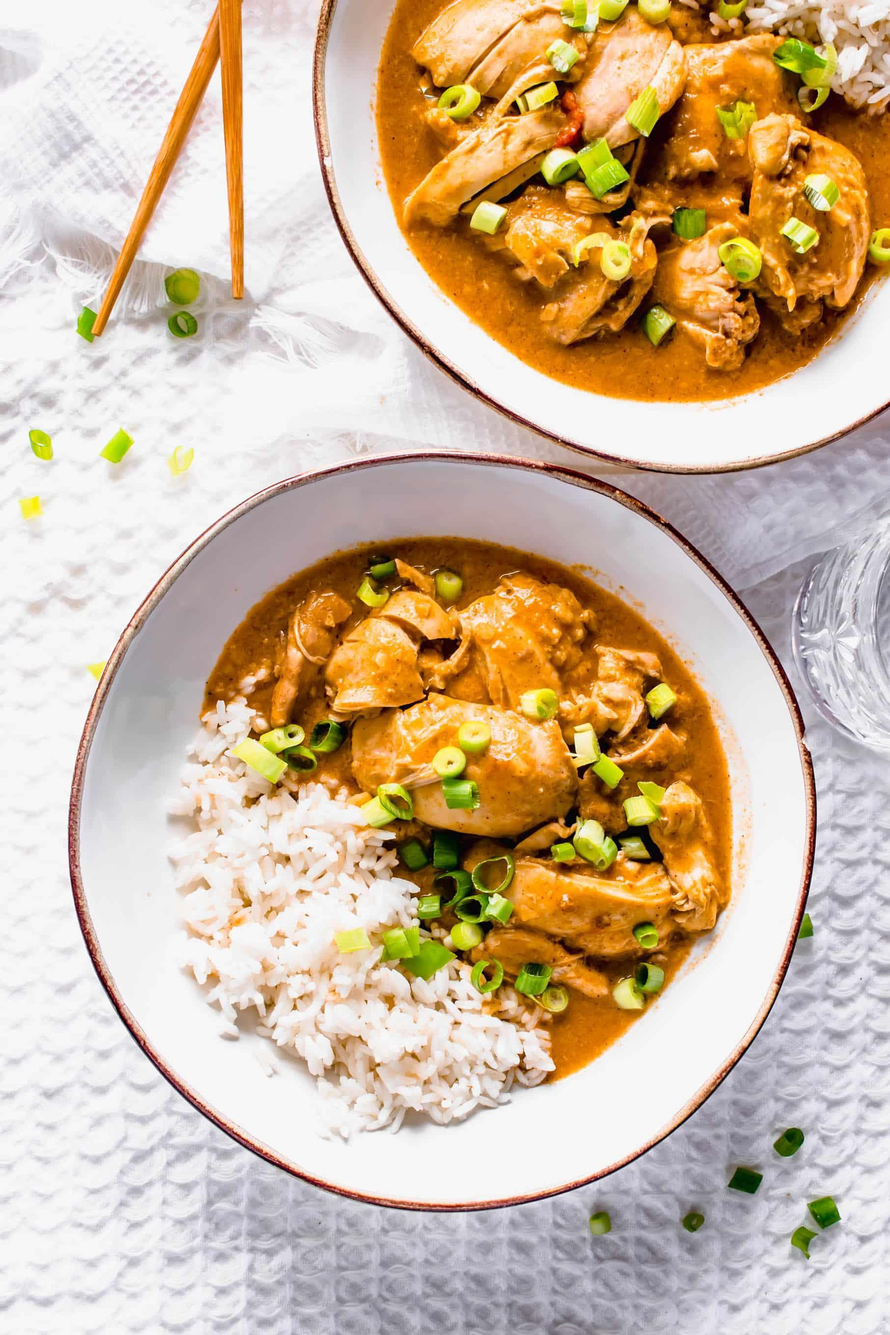chicken: (398, 0, 890, 406), (349, 587, 731, 952)
rice: (118, 739, 511, 1109)
